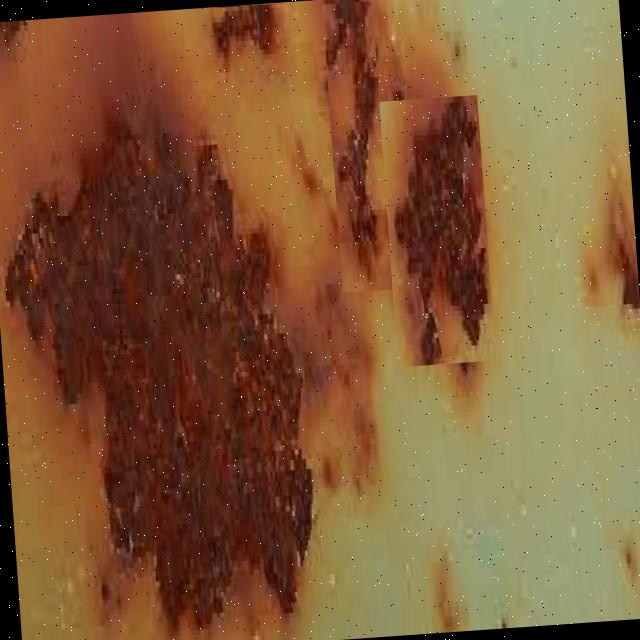Corrosion: (0, 0, 512, 640), (381, 93, 495, 364)
